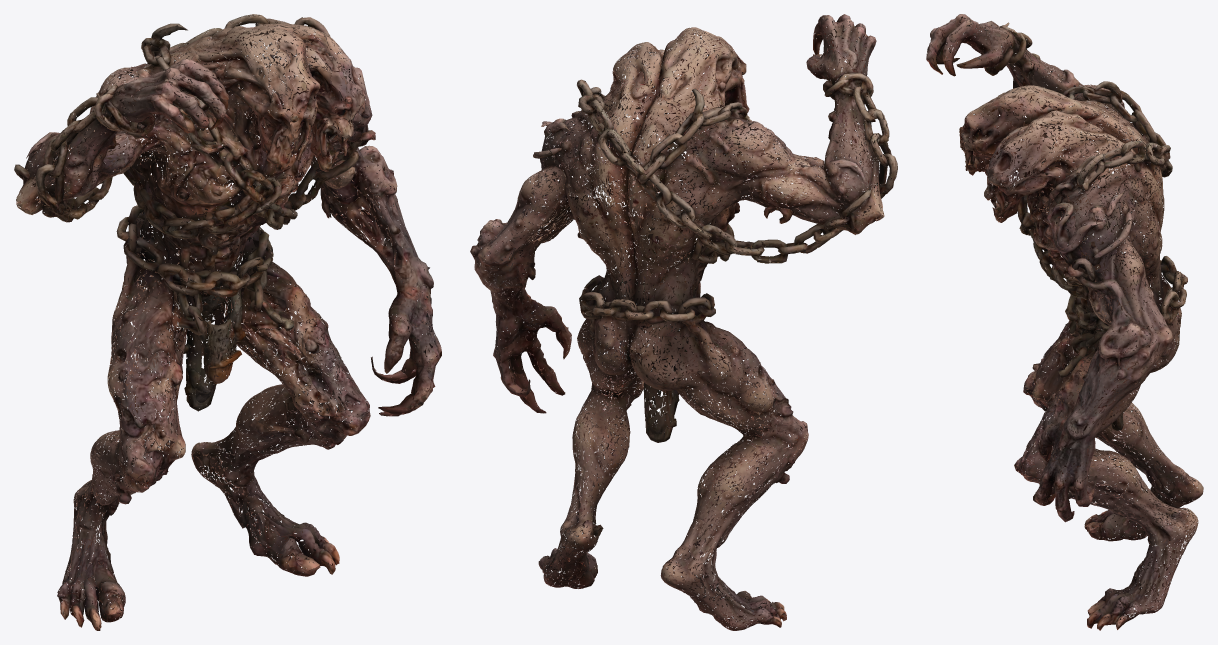
The model's file is brute.glb.
The picture shows the model from 3 angles, left to right: view 1: azimuth 30°, elevation 25°; view 2: azimuth 150°, elevation 25°; view 3: azimuth 270°, elevation 25°; orthographic projection. The views are drawn at different scales.
Visible parts, largest first — view 1: part_tripo_mat_6d2032c4; view 2: part_tripo_mat_6d2032c4; view 3: part_tripo_mat_6d2032c4.
Part boxes in pixels (x1=…): part_tripo_mat_6d2032c4: x1=14, y1=14, x2=441, y2=630; part_tripo_mat_6d2032c4: x1=470, y1=14, x2=897, y2=630; part_tripo_mat_6d2032c4: x1=926, y1=14, x2=1203, y2=630.
Bounding box in the file's own units: 0.7071 × 0.9831 × 0.475.
1 material, 1 textured.
